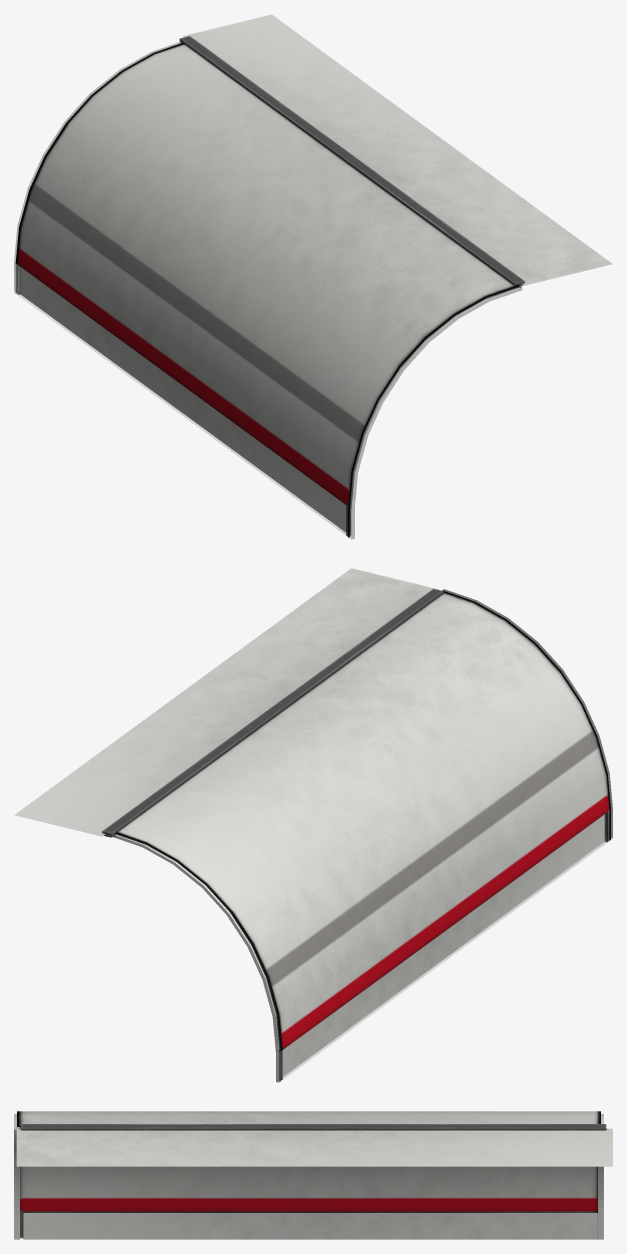
The model's file is Tun_semiround.fbx.
3 views of the same model, one above another, from view 1: azimuth 30°, elevation 25°; view 2: azimuth 150°, elevation 25°; view 3: azimuth 270°, elevation 25° (orthographic). The views are drawn at different scales.
Visible parts, largest first — view 1: mainsheet, roof, Topjoiner, midjoiner, midjoiner2; view 2: mainsheet, roof, Topjoiner, midjoiner2, midjoiner; view 3: mainsheet, roof, Topjoiner, midjoiner, midjoiner2.
Part boxes in pixels (x1,y1,x2,y2): mainsheet: (15, 43, 519, 537); roof: (183, 14, 612, 285); Topjoiner: (179, 36, 524, 286); midjoiner: (348, 286, 522, 539); midjoiner2: (14, 41, 181, 294); mainsheet: (116, 590, 610, 1081); roof: (14, 568, 439, 836); Topjoiner: (102, 589, 443, 837); midjoiner2: (113, 834, 282, 1082); midjoiner: (443, 589, 612, 840); mainsheet: (17, 1111, 600, 1239); roof: (16, 1128, 612, 1166); Topjoiner: (21, 1124, 606, 1130); midjoiner: (14, 1114, 19, 1239); midjoiner2: (598, 1114, 603, 1239).
Size of the model in its own units: 1204 by 929 by 2716.
